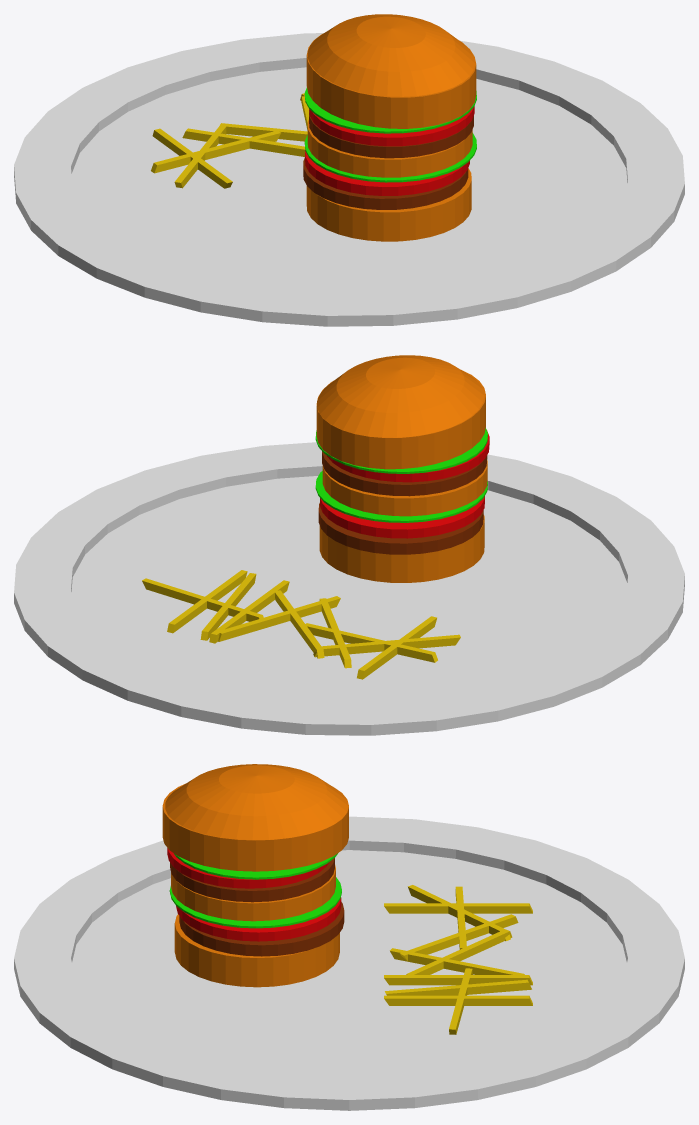
Rendered from hamburguesa.fbx.
The picture shows the model from 3 angles, top to bottom: view 1: azimuth 30°, elevation 25°; view 2: azimuth 150°, elevation 25°; view 3: azimuth 270°, elevation 25°; orthographic projection.
Visible parts, largest first — view 1: plato, Tapa, Base, Base.001, carne, tomate, tomate.001, carne.001, patata.002, lechuga, patata.005, lechuga.001 (+3 smaller); view 2: plato, Tapa, Base, Base.001, carne, tomate, carne.001, lechuga, tomate.001, patata.001, patata.004, patata.002 (+8 smaller); view 3: plato, Tapa, Base, Base.001, carne, carne.001, tomate, patata, tomate.001, lechuga, patata.006, patata.007 (+7 smaller).
Boxes of the visible parts, x1,y1,x2,y2 form: plato: [14, 33, 684, 326]; Tapa: [306, 14, 476, 128]; Base: [306, 168, 471, 241]; Base.001: [307, 119, 472, 177]; carne: [303, 157, 468, 209]; tomate: [305, 149, 469, 195]; tomate.001: [309, 106, 474, 146]; carne.001: [309, 109, 473, 158]; patata.002: [151, 130, 280, 173]; lechuga: [304, 133, 476, 182]; patata.005: [182, 128, 304, 156]; lechuga.001: [304, 87, 476, 133]; plato: [14, 442, 684, 735]; Tapa: [316, 355, 485, 469]; Base: [319, 515, 484, 582]; Base.001: [322, 460, 487, 516]; carne: [318, 503, 483, 554]; tomate: [320, 496, 484, 538]; carne.001: [322, 451, 487, 496]; lechuga: [315, 471, 487, 522]; tomate.001: [326, 430, 489, 482]; patata.001: [218, 596, 340, 641]; patata.004: [313, 634, 460, 657]; patata.002: [304, 623, 437, 662]; plato: [14, 816, 684, 1110]; Tapa: [162, 764, 348, 871]; Base: [174, 914, 339, 987]; Base.001: [171, 865, 335, 921]; carne: [179, 902, 344, 956]; carne.001: [170, 858, 334, 902]; tomate: [176, 897, 341, 941]; patata: [384, 995, 532, 1005]; tomate.001: [167, 848, 329, 888]; lechuga: [169, 877, 341, 928]; patata.006: [384, 903, 532, 913]; patata.007: [385, 979, 531, 995].
Size of the model in its own units: 813 by 255 by 813.
